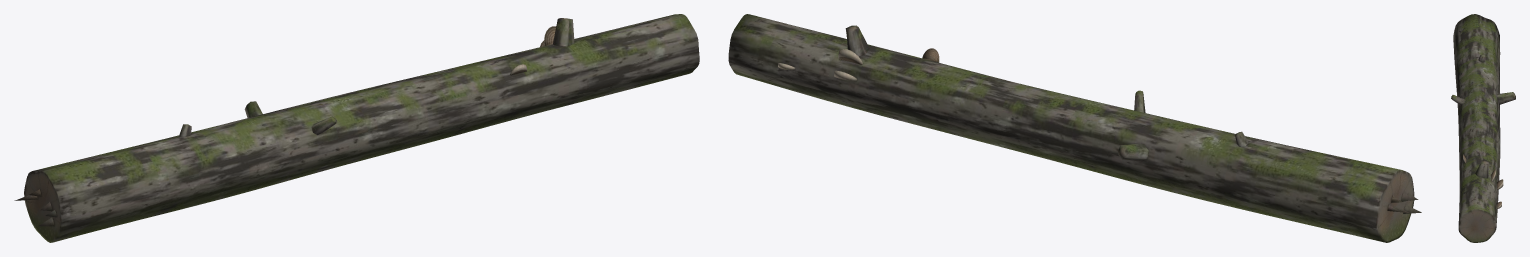
The model's file is kmen_2.glb.
3 views of the same model, side by side, from view 1: azimuth 30°, elevation 25°; view 2: azimuth 150°, elevation 25°; view 3: azimuth 270°, elevation 25° (orthographic). The views are drawn at different scales.
Parts seen in each view (by area): view 1: kmen_2; view 2: kmen_2; view 3: kmen_2.
Part boxes in pixels (x1,y1,x2,y2): kmen_2: (14,14,699,242); kmen_2: (728,14,1421,242); kmen_2: (1451,14,1515,242).
Size of the model in its own units: 6.2 by 0.7752 by 0.8501.
1 material, 1 textured.
